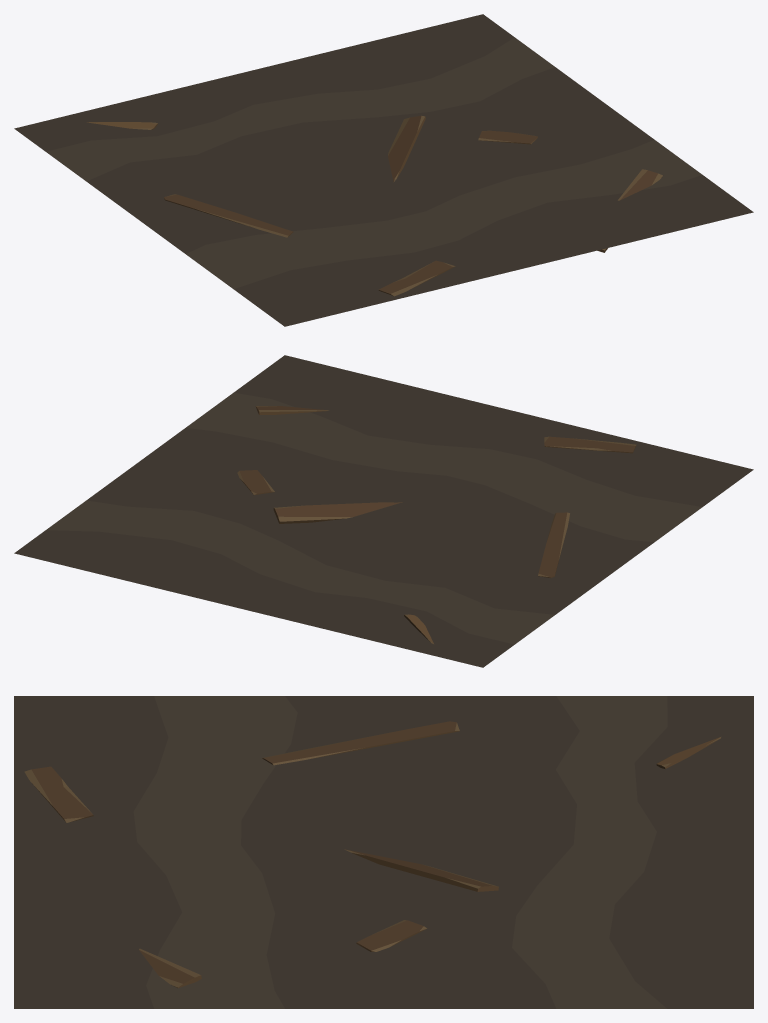
Rendered from 20C_BG_ground_Mud_10M.fbx.
3 views of the same model, one above another, from view 1: azimuth 30°, elevation 25°; view 2: azimuth 150°, elevation 25°; view 3: azimuth 270°, elevation 25° (orthographic). The views are drawn at different scales.
Parts seen in each view (by area): view 1: 20C_BG_ground_Mud_10M; view 2: 20C_BG_ground_Mud_10M; view 3: 20C_BG_ground_Mud_10M.
Boxes of the visible parts, x1,y1,x2,y2 form: 20C_BG_ground_Mud_10M: (14, 14, 753, 326); 20C_BG_ground_Mud_10M: (14, 355, 753, 667); 20C_BG_ground_Mud_10M: (14, 696, 753, 1008).
Size of the model in its own units: 100 by 4.6 by 100.
